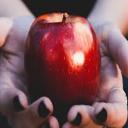apple: (25, 11, 101, 117)
